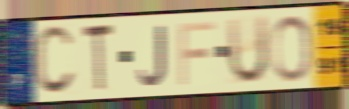C: (32, 23, 78, 99)
F: (177, 19, 217, 88)
J: (136, 23, 168, 88)
O: (271, 13, 313, 84)
T: (81, 21, 116, 96)
U: (225, 13, 270, 87)
